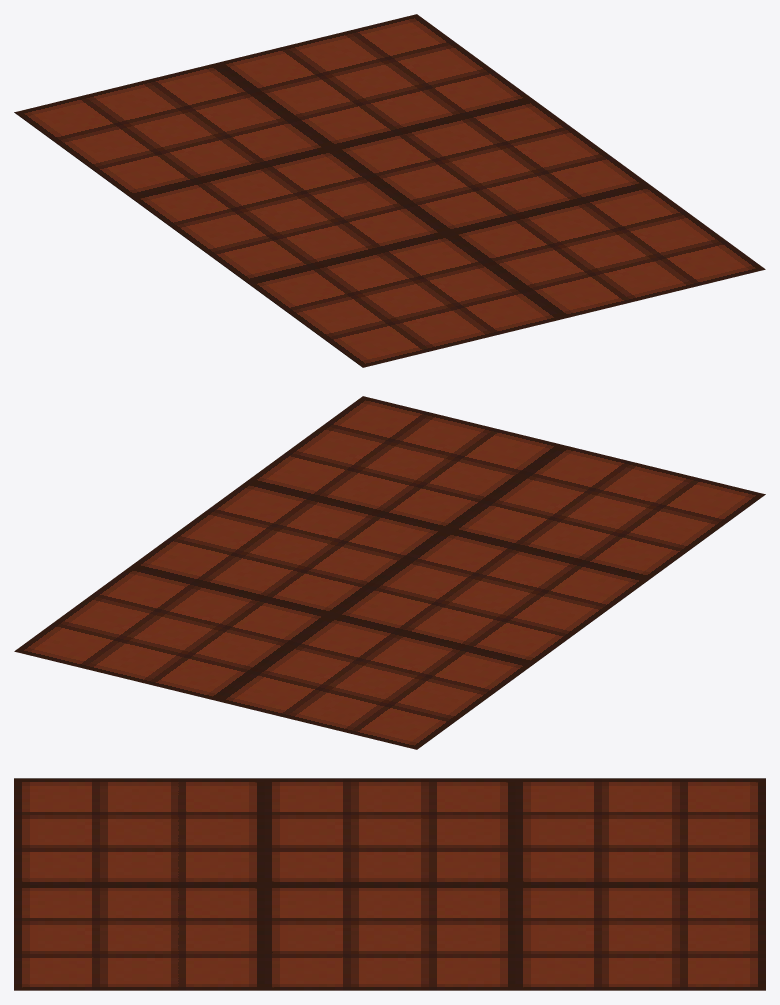
Rendered from GardenFloor.fbx.
3 views of the same model, one above another, from view 1: azimuth 30°, elevation 25°; view 2: azimuth 150°, elevation 25°; view 3: azimuth 270°, elevation 25° (orthographic). The views are drawn at different scales.
Visible parts, largest first — view 1: Garden; view 2: Garden; view 3: Garden.
Part boxes in pixels (left/top/right/bottom): Garden: left=14, top=14, right=765, bottom=367; Garden: left=14, top=396, right=765, bottom=749; Garden: left=14, top=778, right=765, bottom=990.
Size of the model in its own units: 615 by 1 by 923.
1 material, 1 textured.
